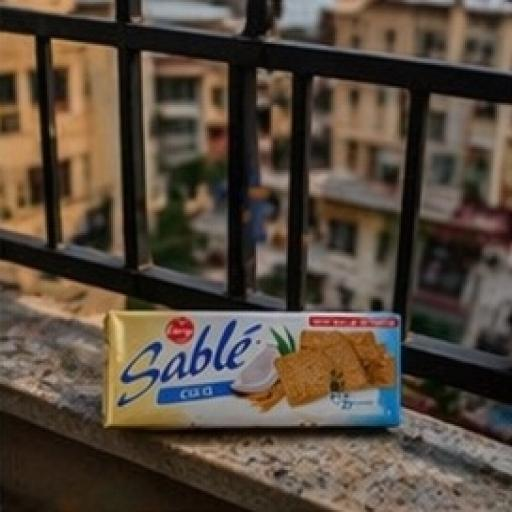sabl: (70, 254, 434, 512)
